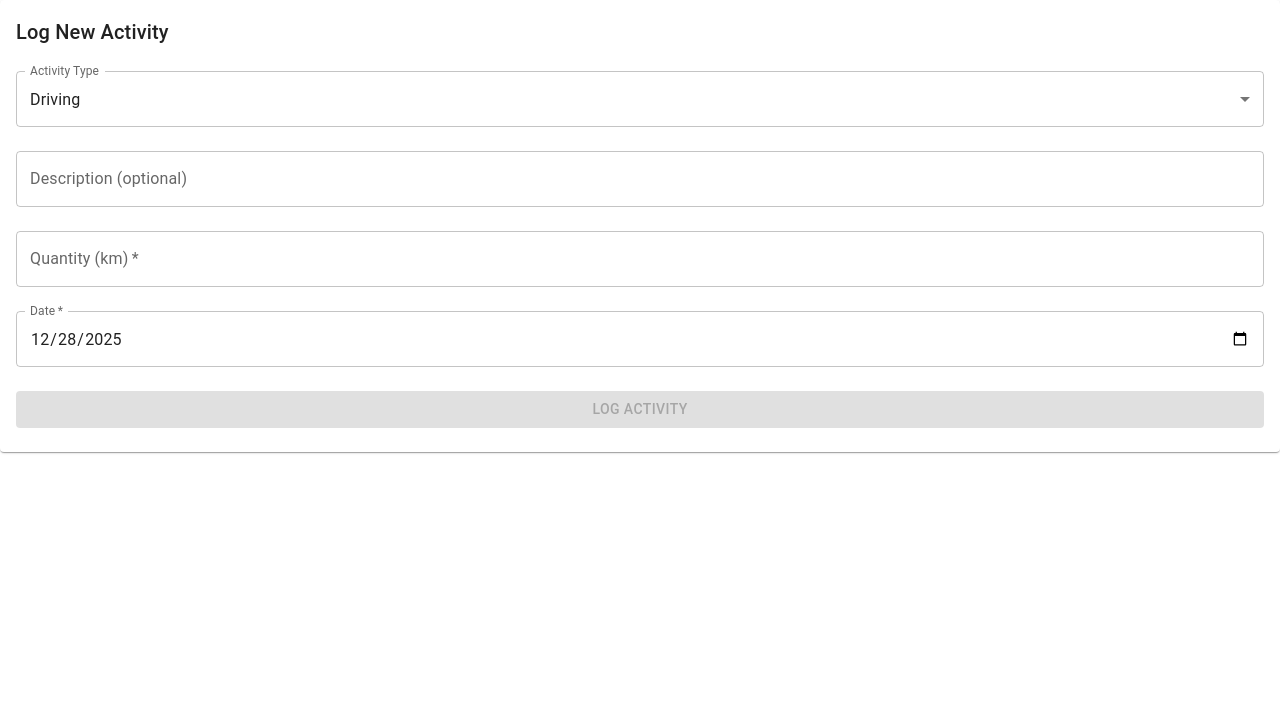
Test: ActivityForm › shows error message on submission failure
In the number field: (640, 259) left=16, top=231, right=1264, bottom=287, type "100"
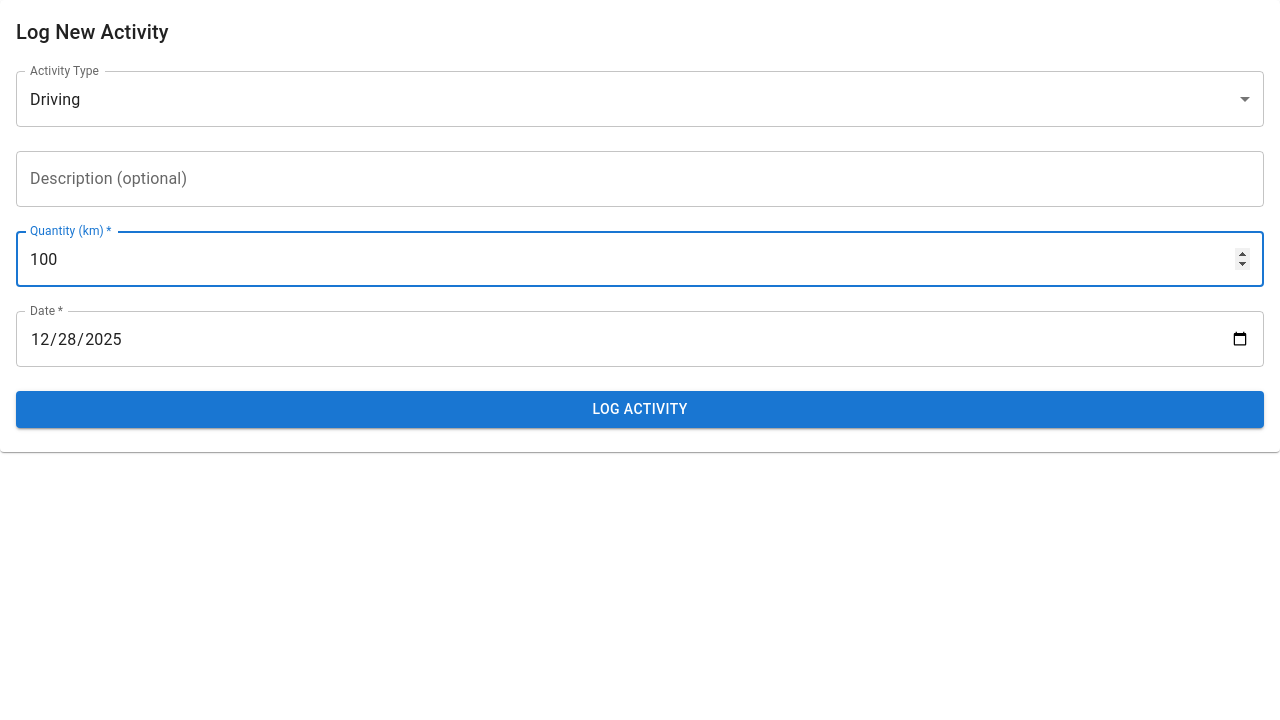
Click the button "Log Activity": (640, 409) left=16, top=391, right=1264, bottom=428
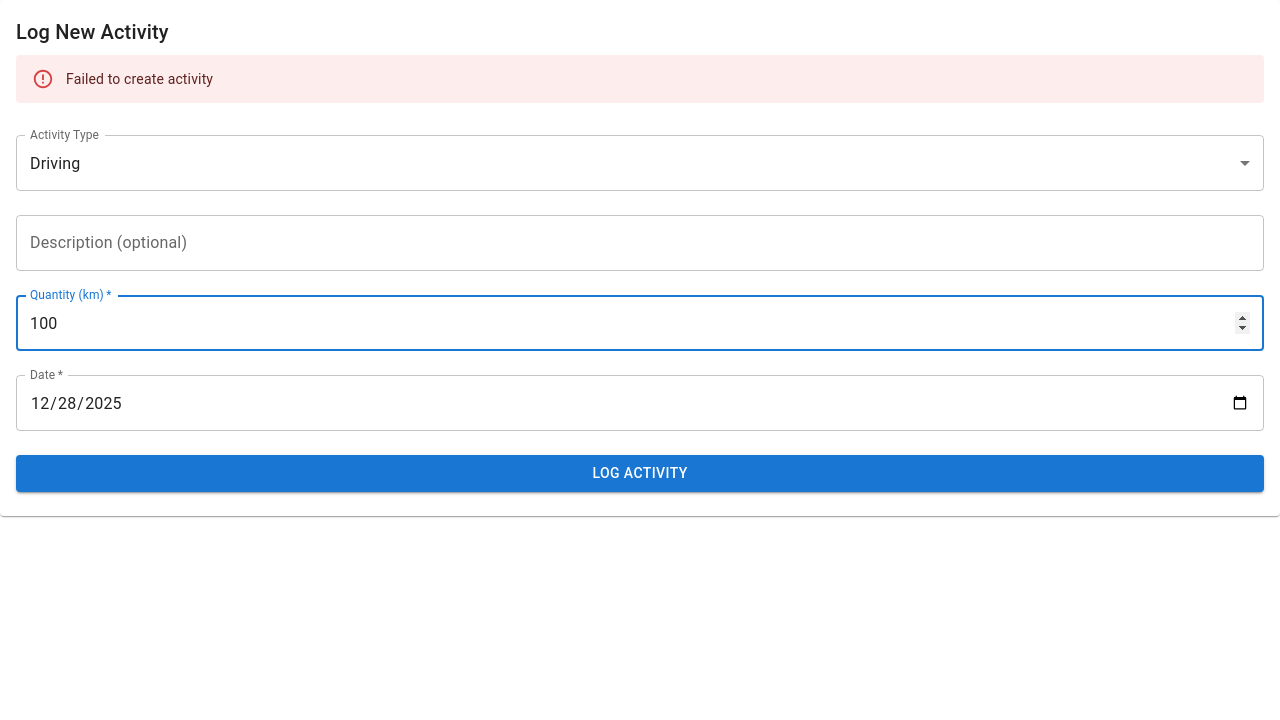
Result: the text "Failed to create activity" is shown at left=66, top=71, right=213, bottom=87
